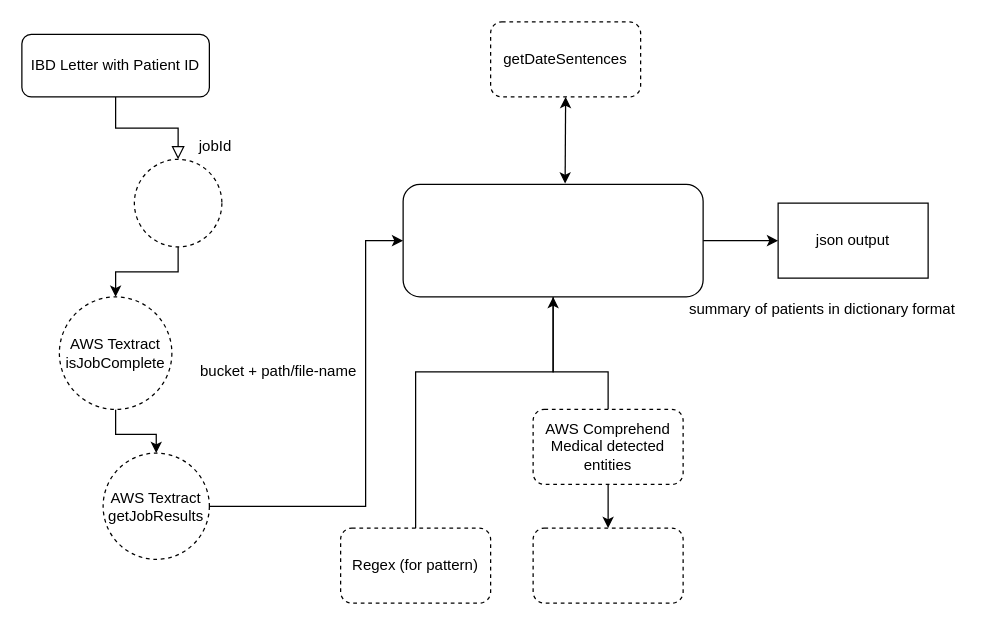
The diagram is 988 pixels wide and 625 high, and some of its shapes have lost their labels. Each missing label, with the centre of its shape:
AWS Textract startJob: the point at 177,202
process_file: the point at 552,240
rx norm detection: the point at 607,565
